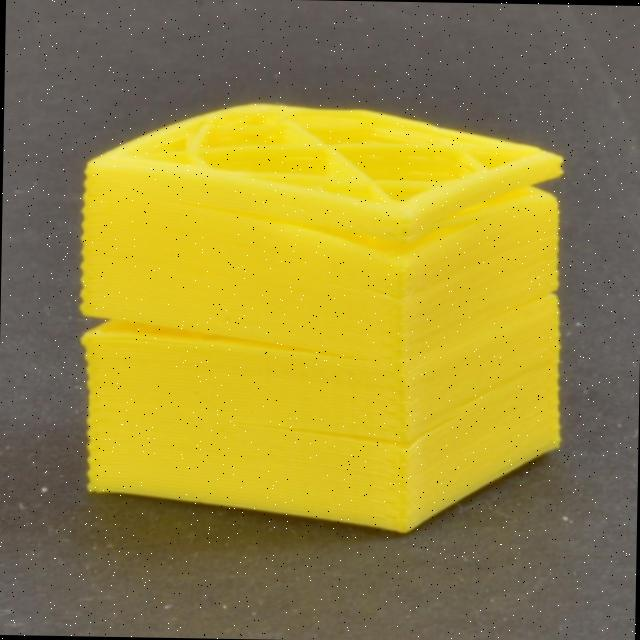cracks: (80, 296, 330, 358), (243, 191, 418, 272), (431, 153, 558, 226), (263, 412, 452, 455)
